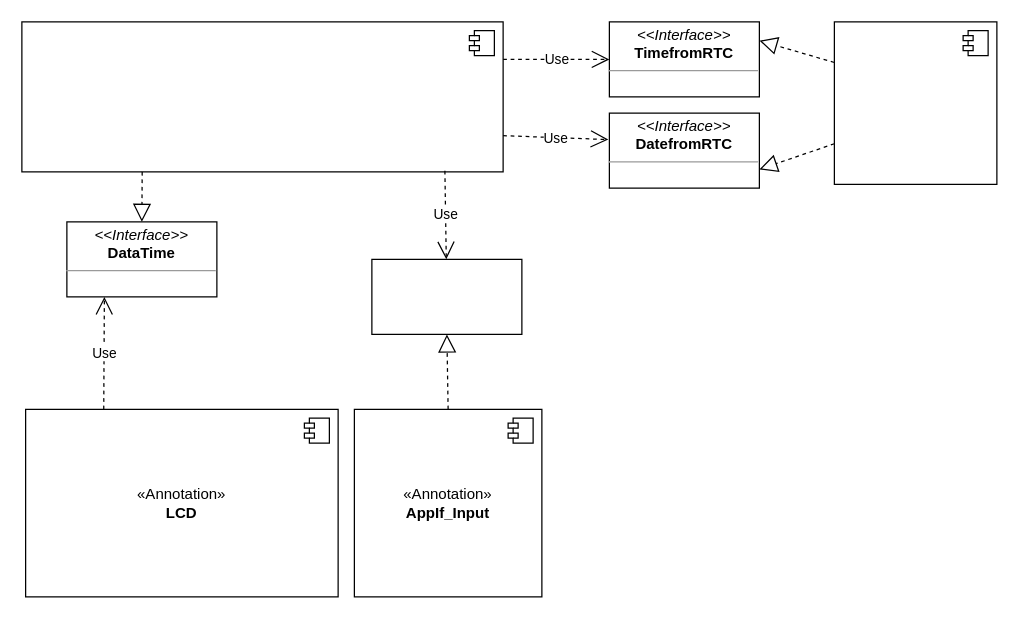
The diagram is 1019 pixels wide and 619 high, and some of its shapes have lost their labels. Each missing label, with the centre of its shape:
"<<Interface>> Buttons" goes at (x=446, y=296).
"«Annotation» Clock_Modele" goes at (x=262, y=96).
"«Annotation» Real Time Clock" goes at (x=915, y=102).
